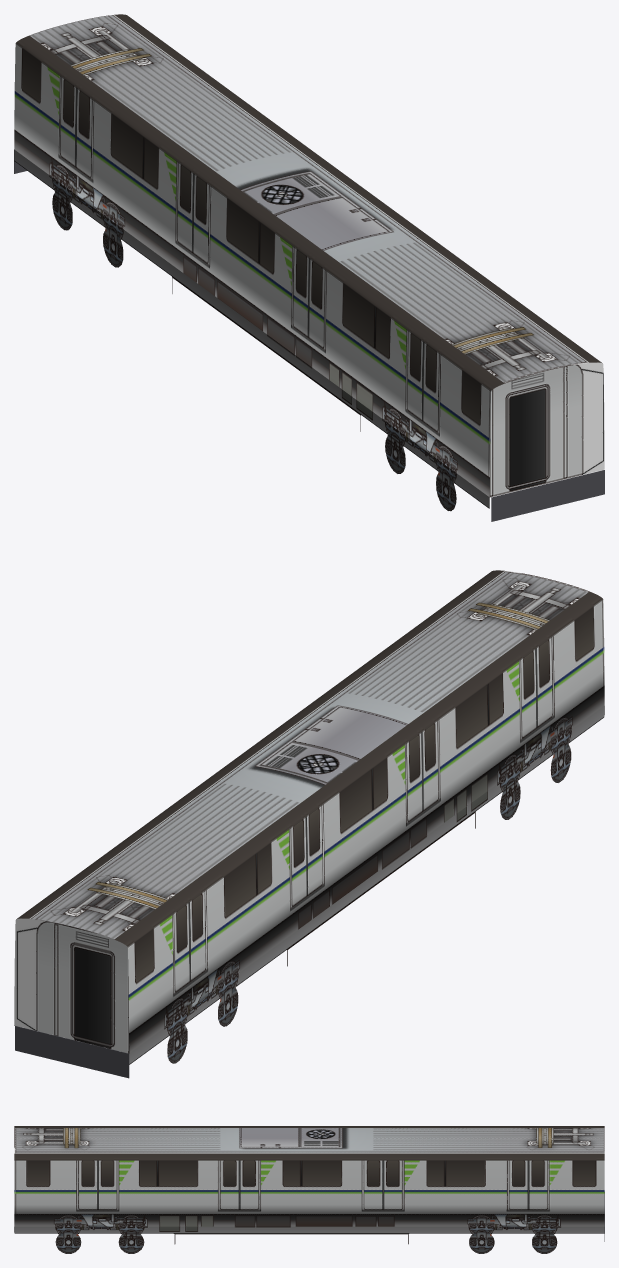
Rendered from car3.glb.
The picture shows the model from 3 angles, top to bottom: view 1: azimuth 30°, elevation 25°; view 2: azimuth 150°, elevation 25°; view 3: azimuth 270°, elevation 25°; orthographic projection. The views are drawn at different scales.
Visible parts, largest first — view 1: toei10300-car3; view 2: toei10300-car3; view 3: toei10300-car3.
Boxes of the visible parts, x1,y1,x2,y2 form: toei10300-car3: [14, 14, 604, 521]; toei10300-car3: [14, 570, 604, 1078]; toei10300-car3: [14, 1126, 604, 1253].
Bounding box in the file's own units: 2.79 × 3.64 × 20.03.
8 materials, 7 textured.
